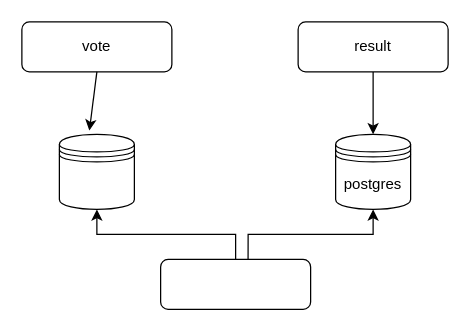
Some shapes in this 470 by 331 pixel diagram are drawn without their labels. The centre of each missing label's shape, as x and y in pixels:
Redis: the point at 96,171
worker: the point at 235,283
